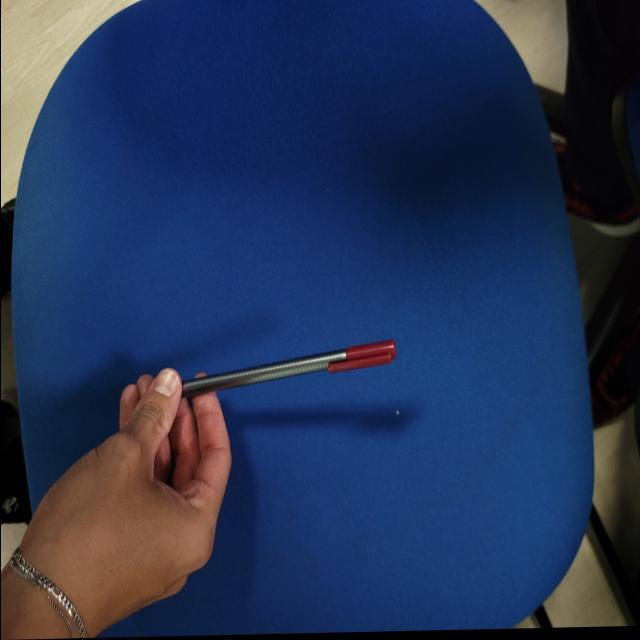caneta: (157, 336, 403, 391)
